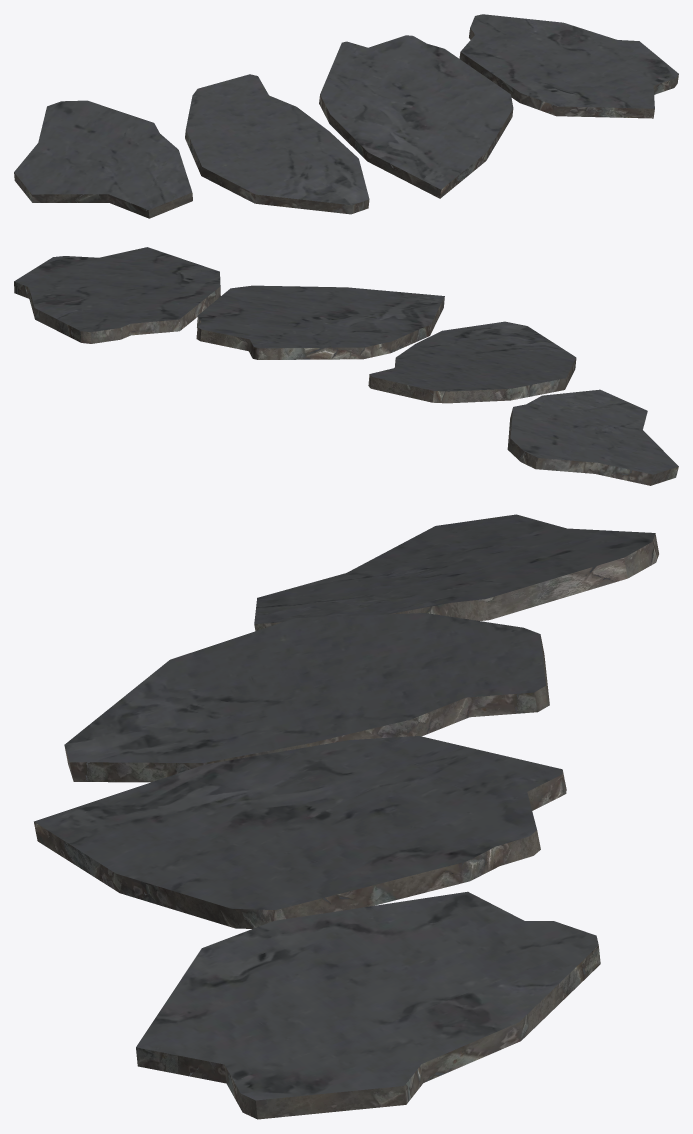
3 renders of one model, top to bottom at view 1: azimuth 30°, elevation 25°; view 2: azimuth 150°, elevation 25°; view 3: azimuth 270°, elevation 25°, orthographic. The views are drawn at different scales.
Parts seen in each view (by area): view 1: SM_Kuldra_Floor_Dmg_03_LOD0; view 2: SM_Kuldra_Floor_Dmg_03_LOD0; view 3: SM_Kuldra_Floor_Dmg_03_LOD0.
Part boxes in pixels (x1,y1,x2,y2): SM_Kuldra_Floor_Dmg_03_LOD0: (14,14,678,218); SM_Kuldra_Floor_Dmg_03_LOD0: (14,247,678,485); SM_Kuldra_Floor_Dmg_03_LOD0: (34,514,658,1119).
Size of the model in its own units: 6.31 by 0.5561 by 2.84.
Materials: 2 (2 with a texture image).
